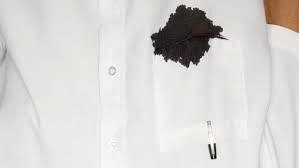ink: (154, 5, 224, 65)
